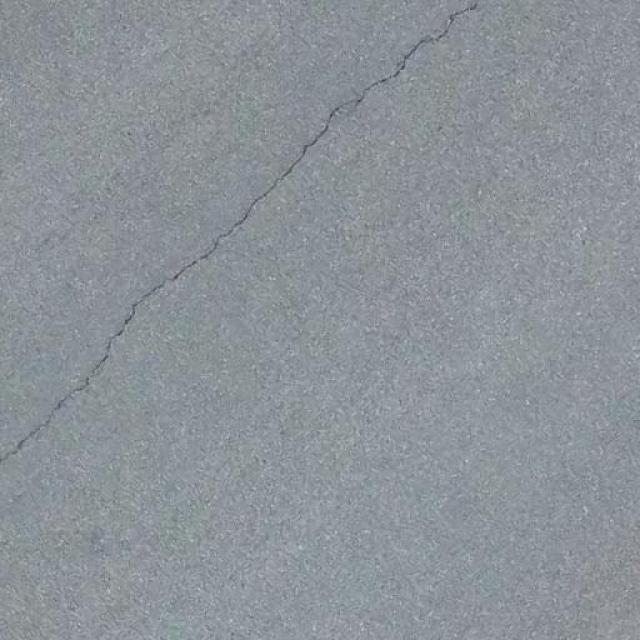Crack: (0, 0, 479, 461)
